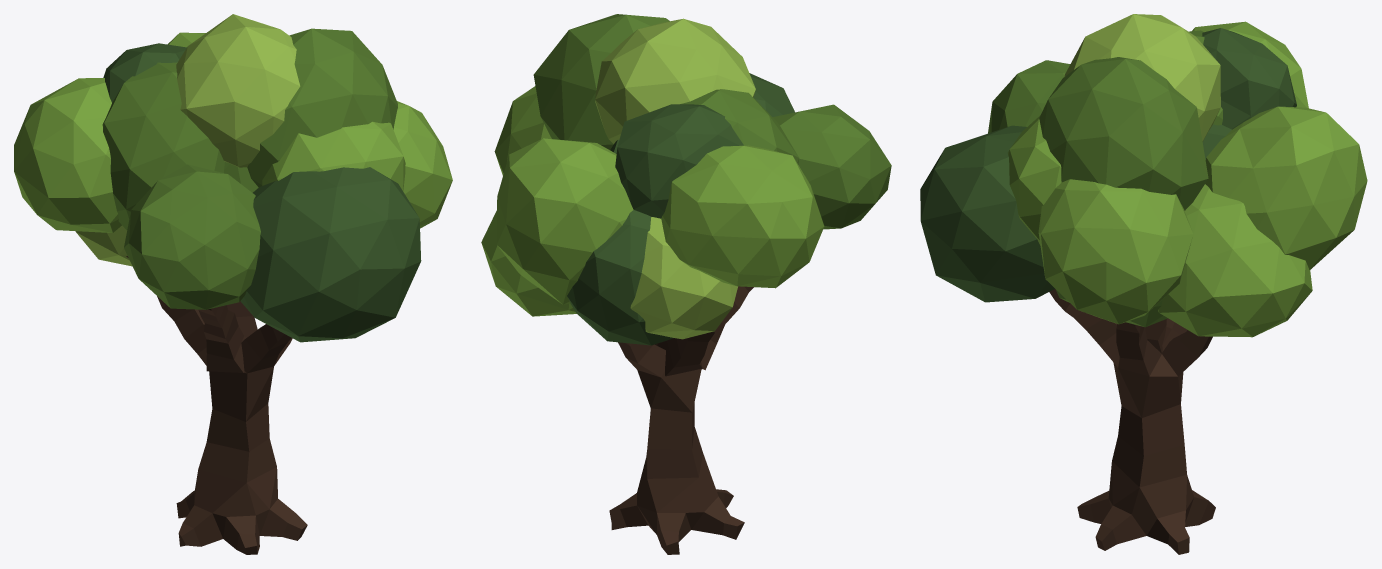
The model's file is SM_Tree_Oak_Green_01.glb.
3 views of the same model, side by side, from view 1: azimuth 30°, elevation 25°; view 2: azimuth 150°, elevation 25°; view 3: azimuth 270°, elevation 25° (orthographic). The views are drawn at different scales.
Parts seen in each view (by area): view 1: SM_Tree_Oak_Green_01; view 2: SM_Tree_Oak_Green_01; view 3: SM_Tree_Oak_Green_01.
Boxes of the visible parts, x1,y1,x2,y2 form: SM_Tree_Oak_Green_01: (14, 14, 452, 554); SM_Tree_Oak_Green_01: (481, 14, 891, 554); SM_Tree_Oak_Green_01: (920, 14, 1367, 554).
Size of the model in its own units: 3.46 by 4.65 by 3.65.
